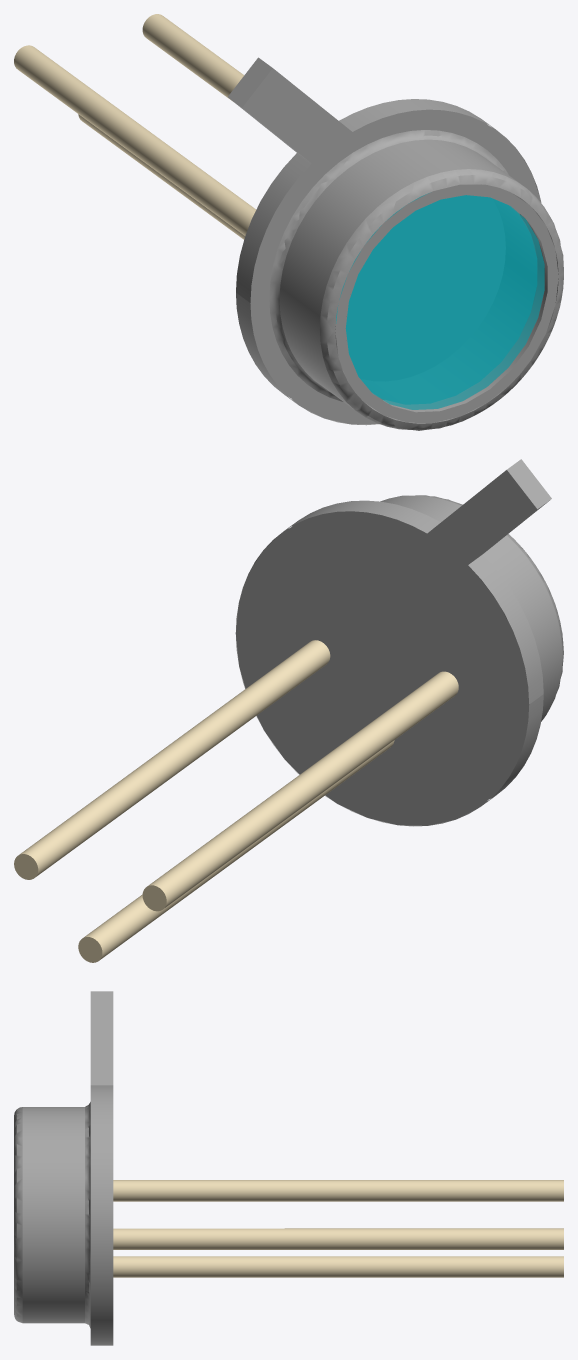
File: TO-46-3_Window.glb
3 views of the same model, one above another, from view 1: azimuth 30°, elevation 25°; view 2: azimuth 150°, elevation 25°; view 3: azimuth 270°, elevation 25° (orthographic). The views are drawn at different scales.
Visible parts, largest first — view 1: Shape_IndexedFaceSet.022, Shape_IndexedFaceSet.025, Shape_IndexedFaceSet.023, Shape_IndexedFaceSet.016, Shape_IndexedFaceSet.010, Shape_IndexedFaceSet.024, Shape_IndexedFaceSet.019, Shape_IndexedFaceSet.014, Shape_IndexedFaceSet.020, Shape_IndexedFaceSet.004, Shape_IndexedFaceSet.012, Shape_IndexedFaceSet.011 (+6 smaller); view 2: Shape_IndexedFaceSet.009, Shape_IndexedFaceSet.014, Shape_IndexedFaceSet.011, Shape_IndexedFaceSet.007, Shape_IndexedFaceSet.016, Shape_IndexedFaceSet.003, Shape_IndexedFaceSet.013, Shape_IndexedFaceSet.006, Shape_IndexedFaceSet.005, Shape_IndexedFaceSet; view 3: Shape_IndexedFaceSet.016, Shape_IndexedFaceSet.011, Shape_IndexedFaceSet.013, Shape_IndexedFaceSet.014, Shape_IndexedFaceSet.006, Shape_IndexedFaceSet.002, Shape_IndexedFaceSet.019, Shape_IndexedFaceSet.012.
Part boxes in pixels (<box>): Shape_IndexedFaceSet.022: <box>345,195,544,409</box>; Shape_IndexedFaceSet.025: <box>336,193,536,404</box>; Shape_IndexedFaceSet.023: <box>335,194,505,380</box>; Shape_IndexedFaceSet.016: <box>279,139,558,423</box>; Shape_IndexedFaceSet.010: <box>250,110,541,424</box>; Shape_IndexedFaceSet.024: <box>335,184,537,404</box>; Shape_IndexedFaceSet.019: <box>319,169,563,430</box>; Shape_IndexedFaceSet.014: <box>14,45,256,235</box>; Shape_IndexedFaceSet.020: <box>335,184,558,422</box>; Shape_IndexedFaceSet.004: <box>242,68,351,163</box>; Shape_IndexedFaceSet.012: <box>269,130,508,401</box>; Shape_IndexedFaceSet.011: <box>142,14,243,101</box>; Shape_IndexedFaceSet.009: <box>235,512,529,825</box>; Shape_IndexedFaceSet.014: <box>147,671,458,908</box>; Shape_IndexedFaceSet.011: <box>19,640,330,876</box>; Shape_IndexedFaceSet.007: <box>303,533,467,672</box>; Shape_IndexedFaceSet.016: <box>380,495,562,721</box>; Shape_IndexedFaceSet.003: <box>427,470,537,564</box>; Shape_IndexedFaceSet.013: <box>83,740,394,960</box>; Shape_IndexedFaceSet.006: <box>235,500,543,826</box>; Shape_IndexedFaceSet.005: <box>468,554,543,704</box>; Shape_IndexedFaceSet: <box>507,459,551,509</box>; Shape_IndexedFaceSet.016: <box>22,1107,84,1323</box>; Shape_IndexedFaceSet.011: <box>113,1228,563,1249</box>; Shape_IndexedFaceSet.013: <box>113,1256,563,1277</box>; Shape_IndexedFaceSet.014: <box>113,1180,563,1201</box>; Shape_IndexedFaceSet.006: <box>90,1085,113,1345</box>; Shape_IndexedFaceSet.002: <box>90,991,113,1085</box>; Shape_IndexedFaceSet.019: <box>14,1107,22,1322</box>; Shape_IndexedFaceSet.012: <box>85,1102,90,1328</box>.
Bounding box in the file's own units: 2.35 × 2.85 × 4.8.
